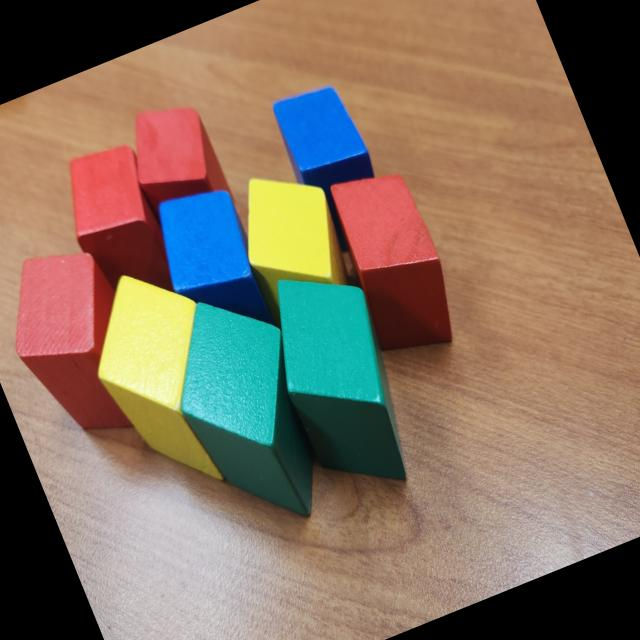blue: (141, 176, 283, 356), (264, 74, 382, 212)
green: (144, 276, 350, 546), (244, 248, 440, 510)
red: (0, 229, 166, 456), (314, 157, 474, 371), (46, 134, 192, 322), (114, 89, 236, 228)
yellow: (66, 252, 262, 506), (219, 153, 364, 325)
